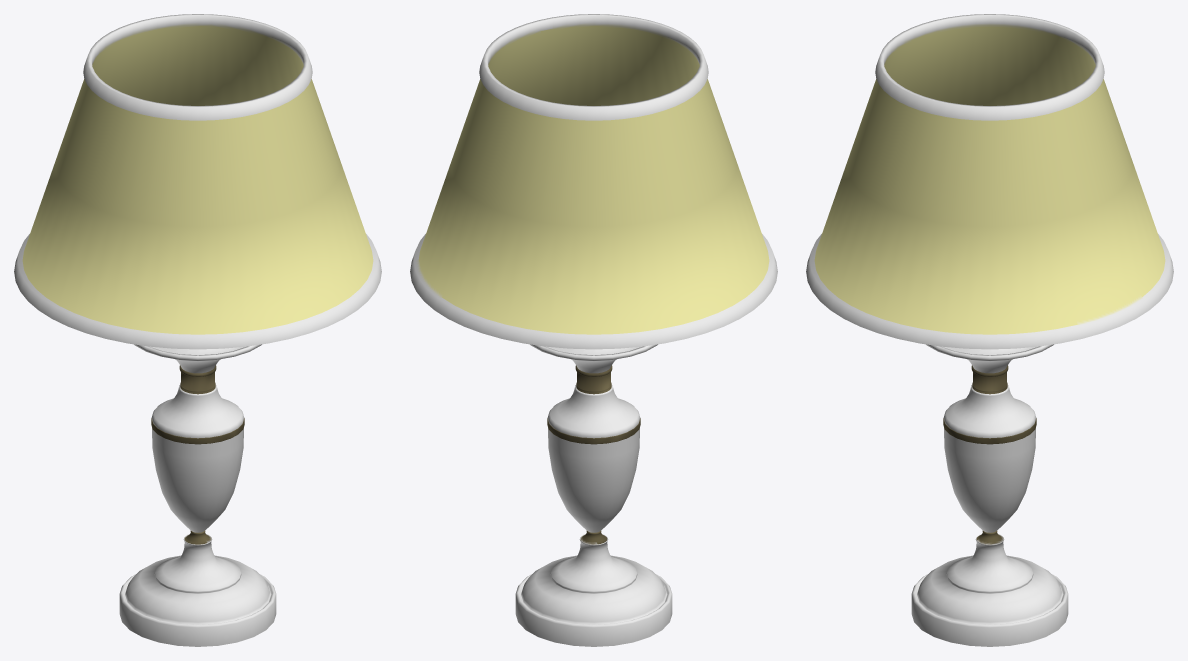
Rendered from lamp.fbx.
The picture shows the model from 3 angles, left to right: view 1: azimuth 30°, elevation 25°; view 2: azimuth 150°, elevation 25°; view 3: azimuth 270°, elevation 25°; orthographic projection.
Parts seen in each view (by area): view 1: Lamp; view 2: Lamp; view 3: Lamp.
Part boxes in pixels (bbox=[...]): Lamp: bbox=[14, 14, 381, 646]; Lamp: bbox=[410, 14, 777, 646]; Lamp: bbox=[806, 14, 1173, 646].
Size of the model in its own units: 28.1 by 46.62 by 28.1.
Materials: 2 (2 with a texture image).
